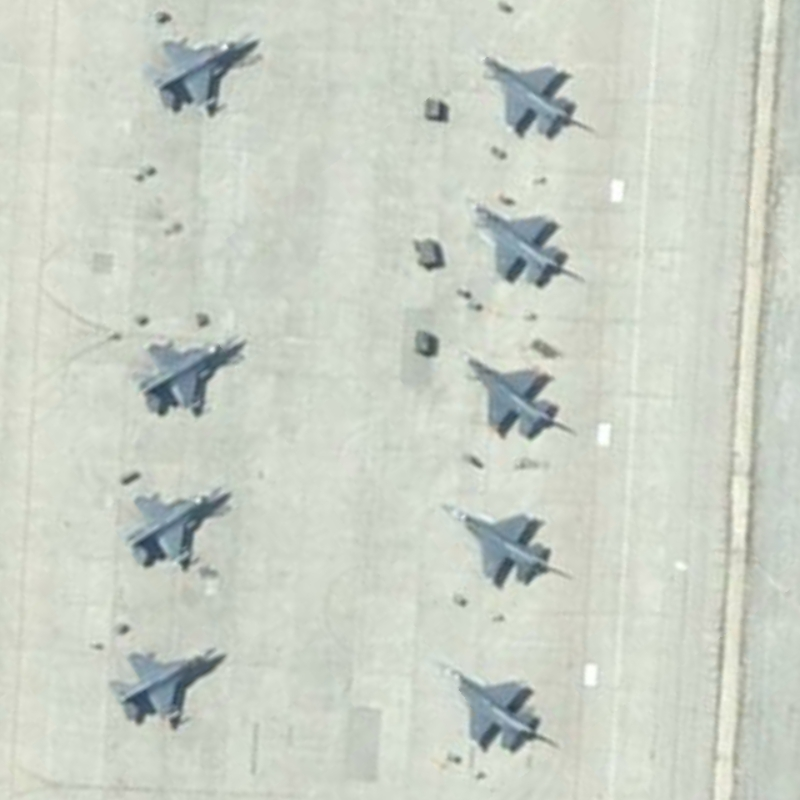A5: (447, 179, 578, 300), (431, 487, 571, 597), (426, 652, 555, 763), (449, 333, 571, 449), (116, 470, 237, 581), (468, 38, 588, 145), (104, 633, 228, 734), (141, 27, 267, 125), (126, 326, 249, 421)
